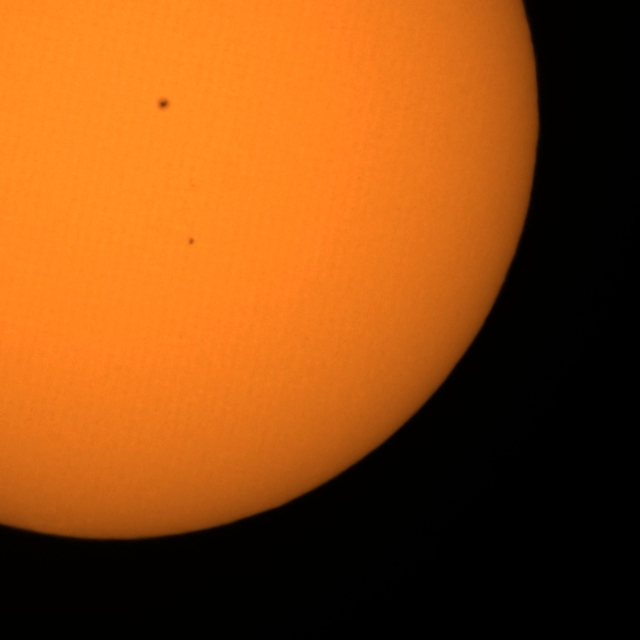sunspot: (155, 96, 172, 113), (186, 236, 196, 247)
